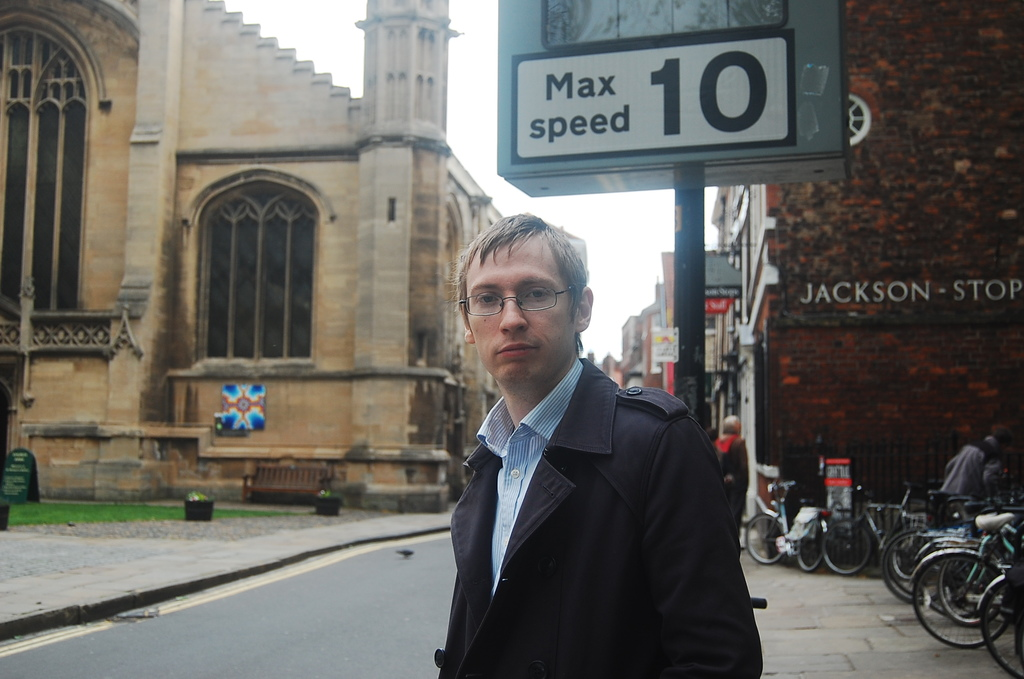Bike: (748, 480, 889, 571)
